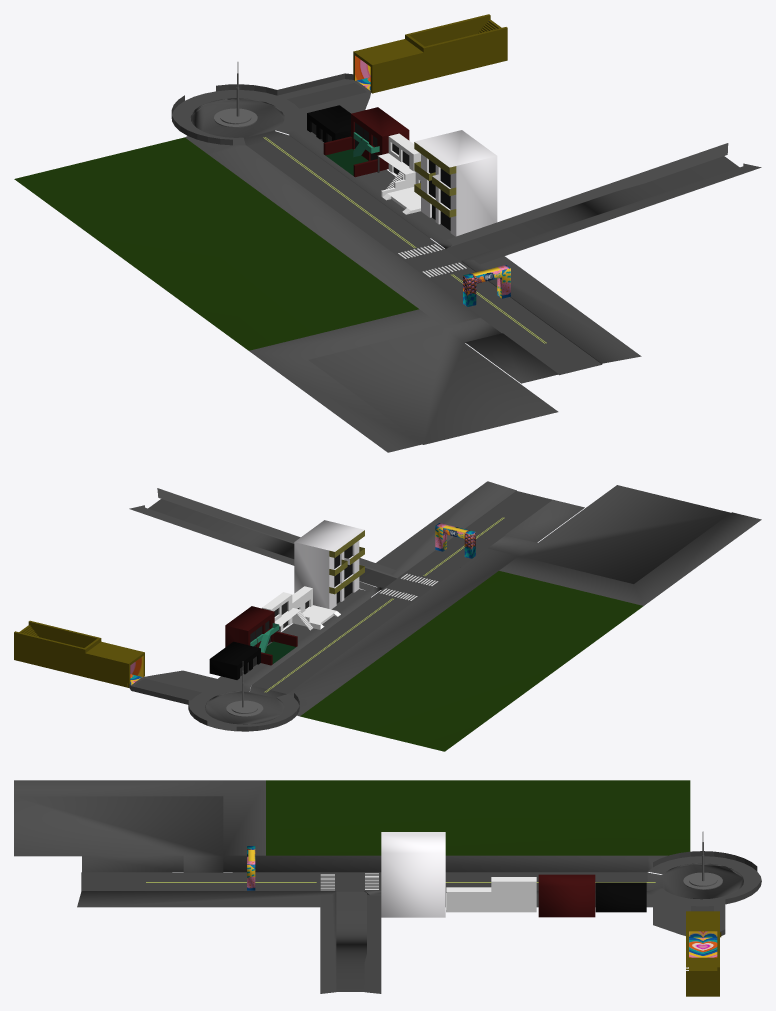
Rendered from ESCALERAS DEL REGATAS.glb.
3 renders of one model, top to bottom at view 1: azimuth 30°, elevation 25°; view 2: azimuth 150°, elevation 25°; view 3: azimuth 270°, elevation 25°, orthographic. The views are drawn at different scales.
Visible parts, largest first — view 1: Calle y Vereda, Escalinata, Edificio-4, Edificio-2, Edificio-3, Edificio-1, CartelRico, Circle.001; view 2: Calle y Vereda, Escalinata, Edificio-4, Edificio-2, Edificio-3, Edificio-1, CartelRico, Circle.001, Linea; view 3: Calle y Vereda, Edificio-4, Escalinata, Edificio-3, Edificio-2, Edificio-1, Circle.001, CartelRico.
Part boxes in pixels (x1,y1,x2,y2): Calle y Vereda: [14, 73, 761, 452]; Escalinata: [353, 14, 507, 93]; Edificio-4: [414, 130, 497, 236]; Edificio-2: [323, 107, 409, 177]; Edificio-3: [377, 133, 420, 214]; Edificio-1: [307, 105, 350, 142]; CartelRico: [463, 265, 510, 306]; Circle.001: [214, 62, 257, 127]; Calle y Vereda: [127, 481, 761, 751]; Escalinata: [14, 620, 144, 687]; Edificio-4: [294, 520, 364, 609]; Edificio-2: [225, 606, 297, 665]; Edificio-3: [262, 586, 340, 632]; Edificio-1: [209, 641, 260, 679]; CartelRico: [435, 523, 475, 558]; Circle.001: [226, 661, 263, 716]; Linea: [264, 517, 504, 692]; Calle y Vereda: [14, 780, 761, 993]; Edificio-4: [381, 832, 445, 917]; Escalinata: [686, 911, 719, 996]; Edificio-3: [446, 877, 536, 912]; Edificio-2: [538, 874, 595, 917]; Edificio-1: [595, 882, 646, 912]; Circle.001: [683, 831, 722, 889]; CartelRico: [247, 846, 255, 890].
Size of the model in its own units: 200 by 26.21 by 264.
Materials: 21 (2 with a texture image).
